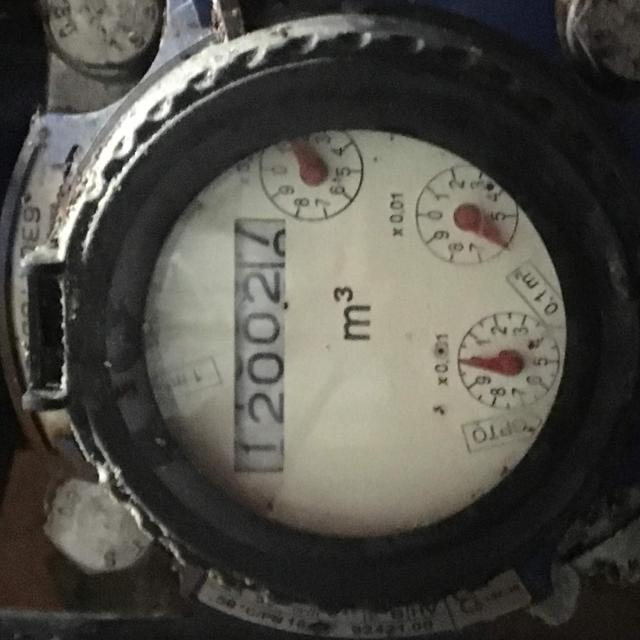gaz_meter: (144, 125, 572, 544)
indication: (232, 217, 290, 473)
